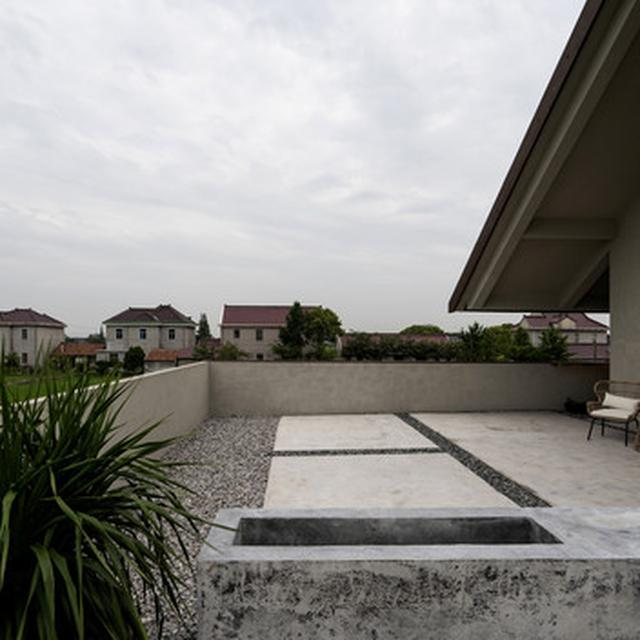building: (437, 0, 640, 437), (213, 288, 328, 374), (100, 288, 204, 372), (0, 298, 68, 375)
